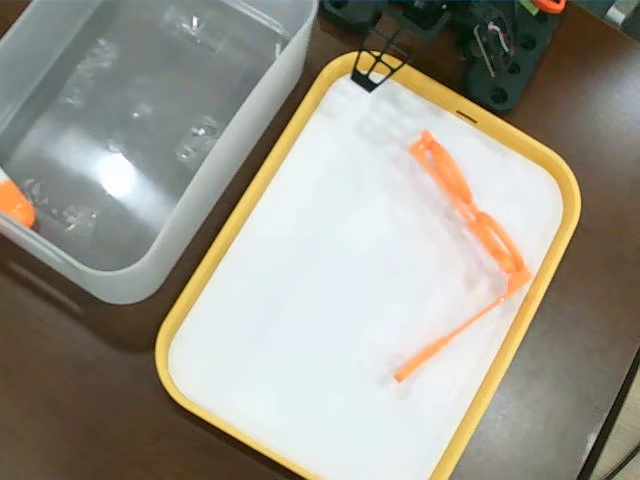pill: (0, 166, 37, 234)
